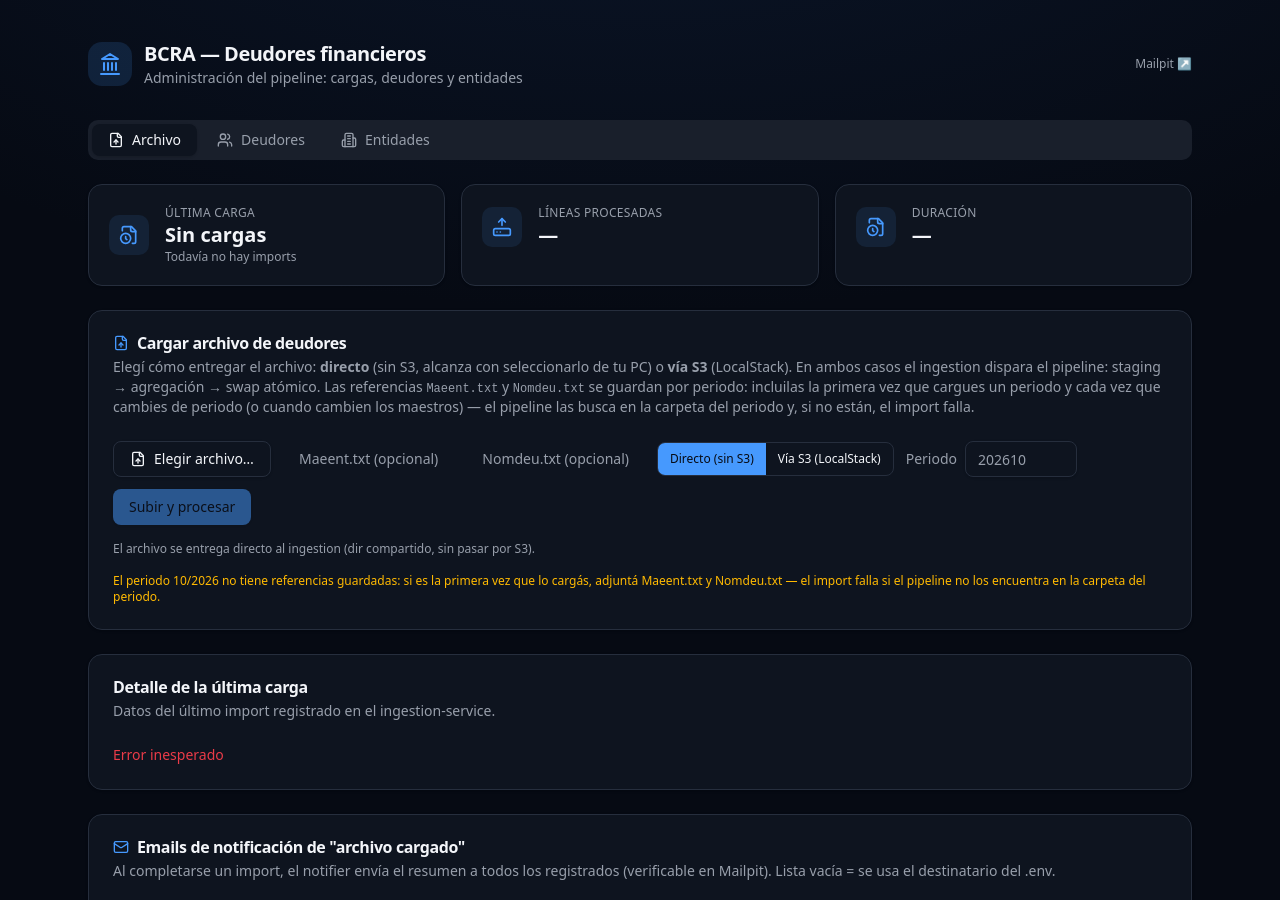
Test: App › renderiza las tres pestañas y navega entre ellas
Expected: the tab "Archivo" is shown, [92,124,197,156]
Expected: the tab "Entidades" is shown, [325,124,446,156]
Click the tab "Deudores".
click(261, 140)  # box [201,124,321,156]
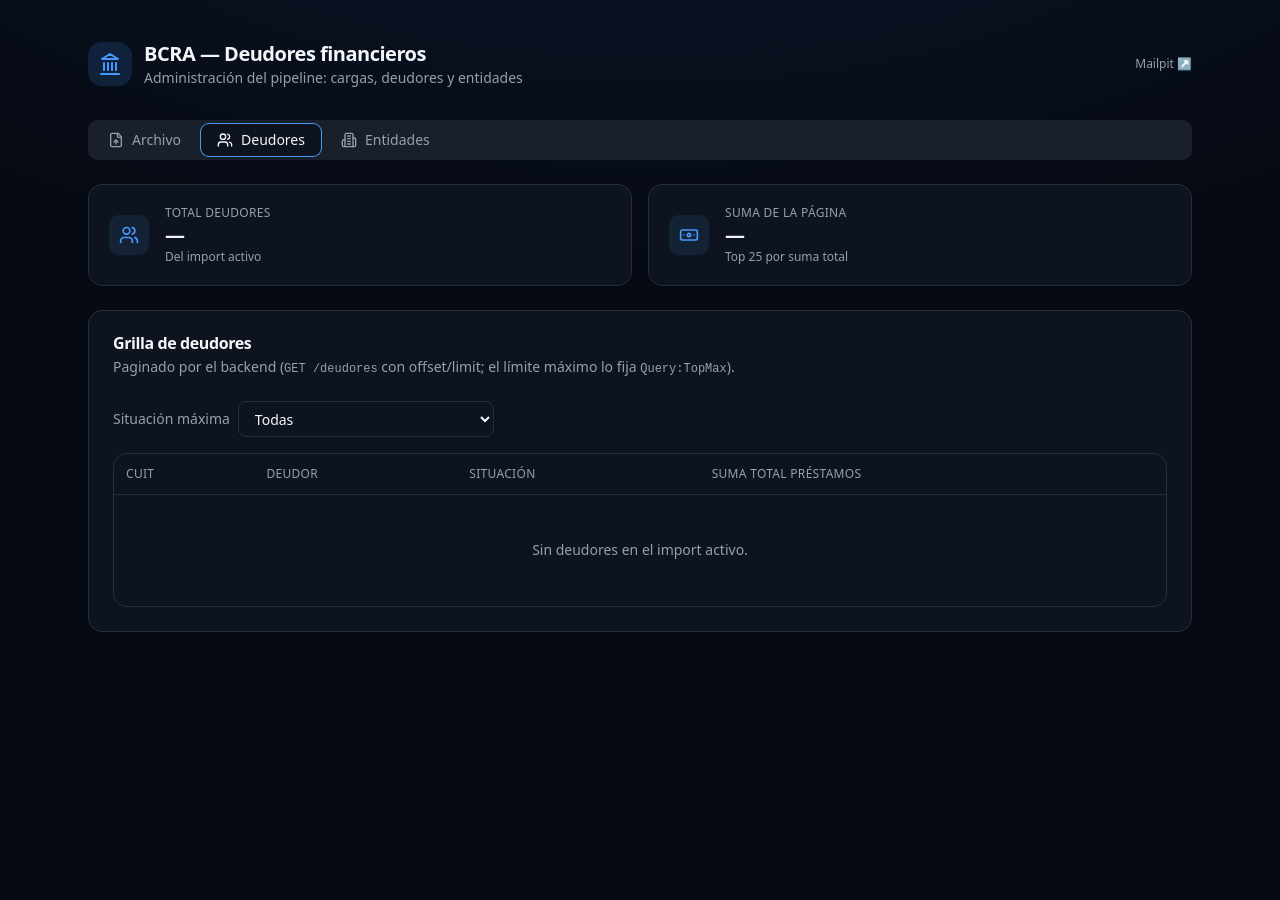
Expected: the panel "deudores" shows "Grilla de deudores", [113,332,251,354]
Click the tab "Entidades".
click(385, 140)  # box [325,124,446,156]
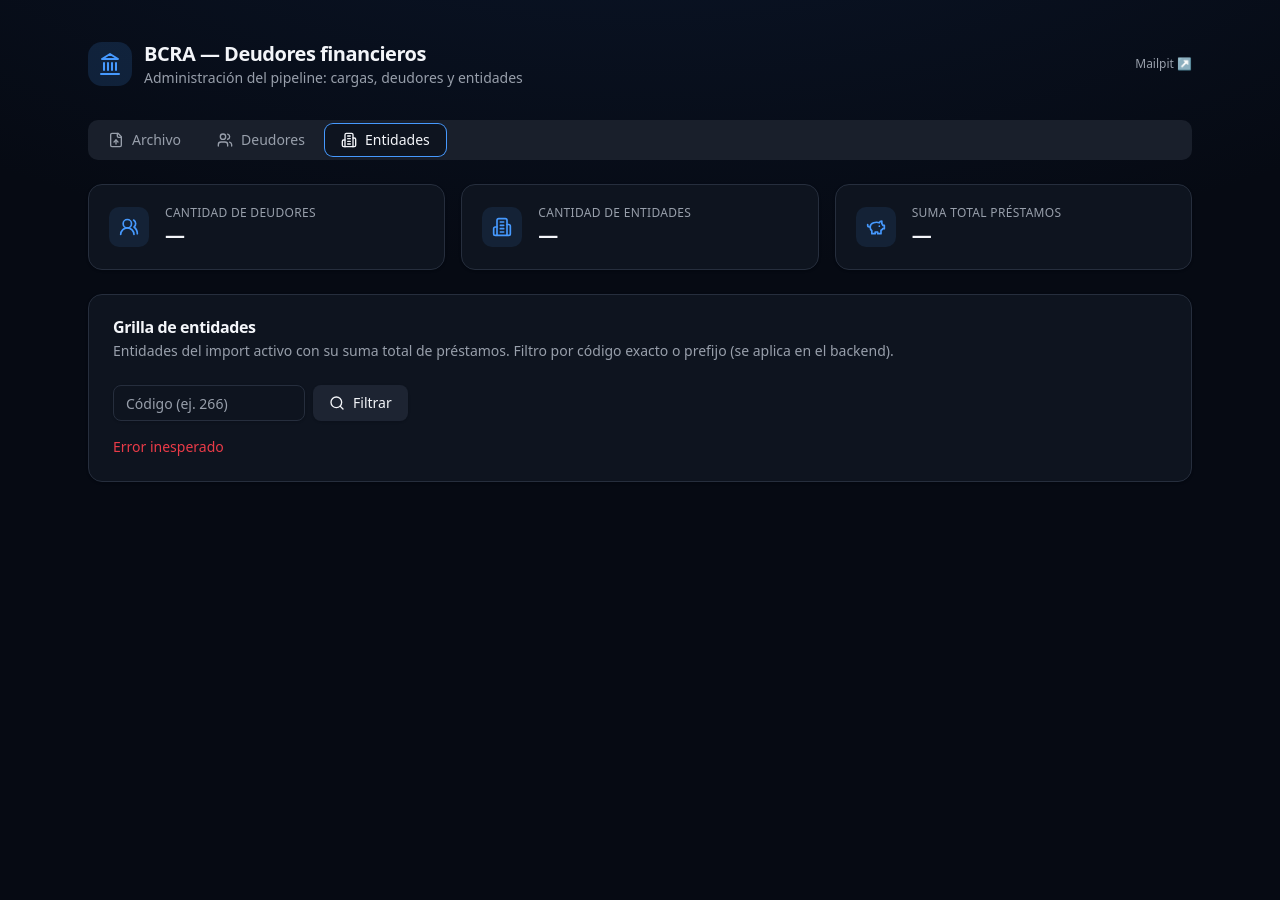
Expected: the panel "entidades" shows "Grilla de entidades", [113,316,256,338]
